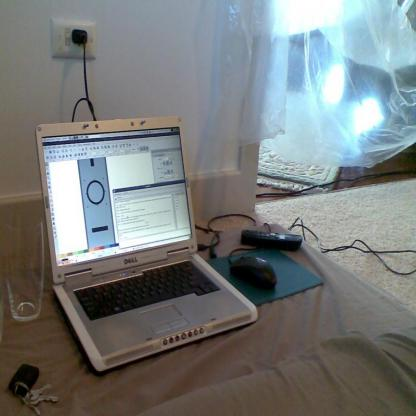board: (34, 114, 258, 373)
